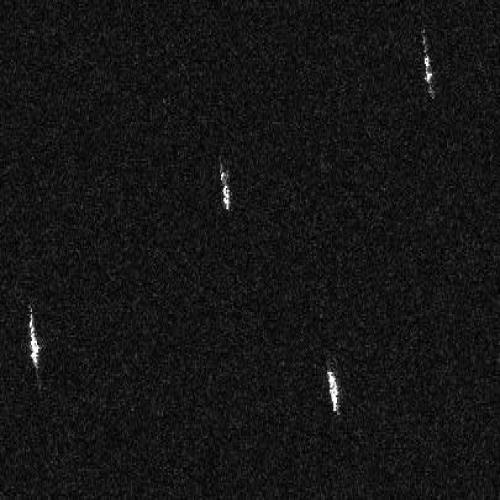ship: (29, 309, 41, 372), (325, 370, 341, 416), (218, 163, 232, 213), (422, 37, 435, 89)
